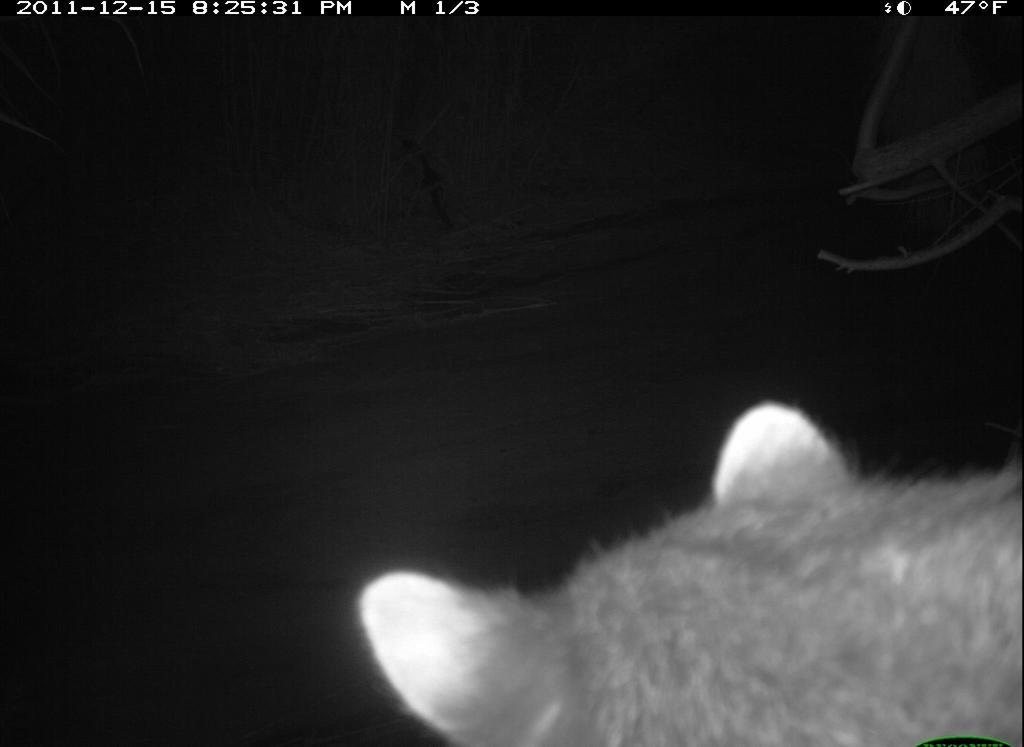raccoon: (353, 382, 1023, 742)
